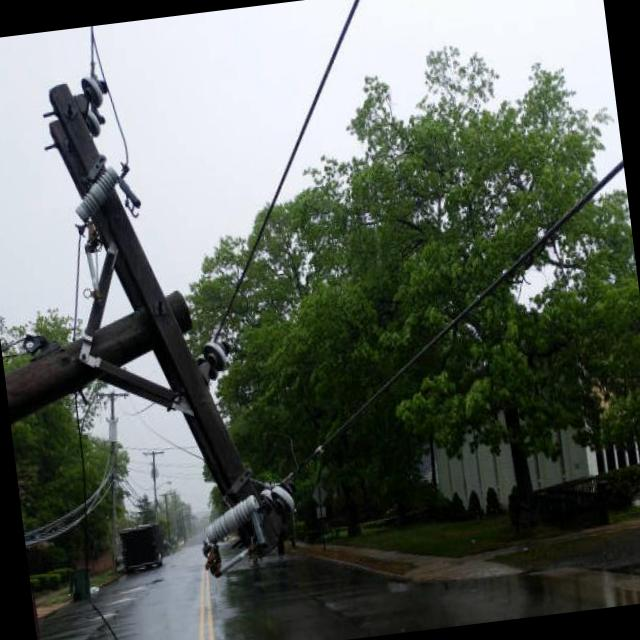Broken Pole: (4, 76, 295, 577)
